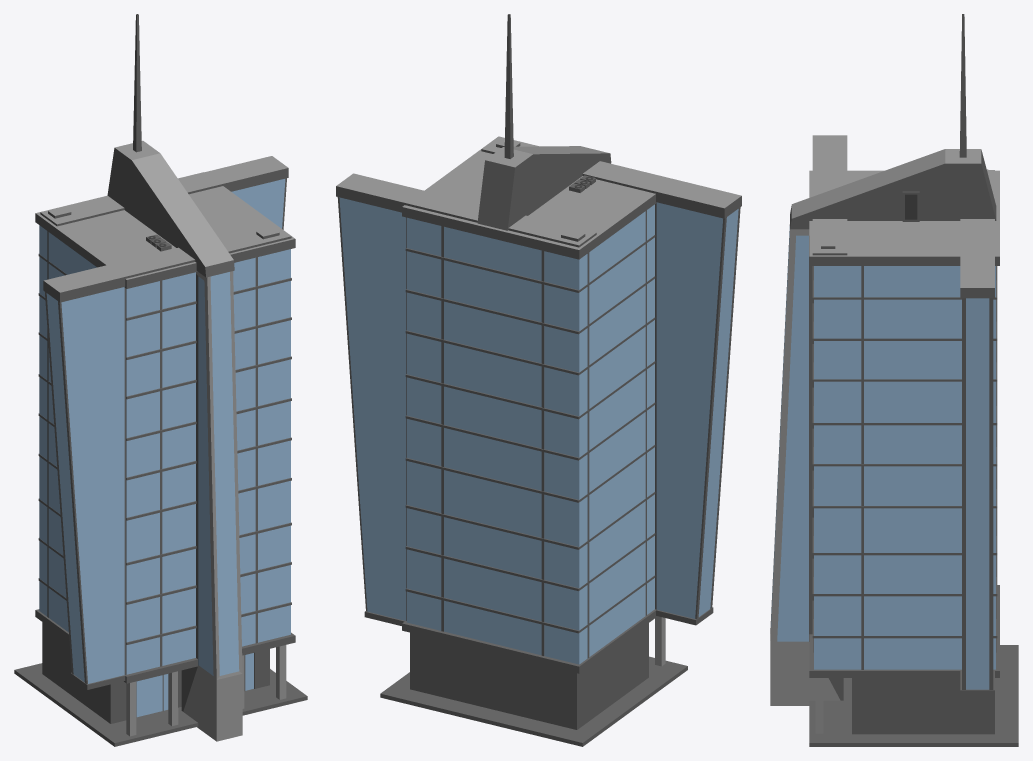
Rendered from business_center_007.fbx.
The picture shows the model from 3 angles, left to right: view 1: azimuth 30°, elevation 25°; view 2: azimuth 150°, elevation 25°; view 3: azimuth 270°, elevation 25°; orthographic projection. The views are drawn at different scales.
Visible parts, largest first — view 1: business_center_007; view 2: business_center_007; view 3: business_center_007.
Part boxes in pixels (bbox=[...]): business_center_007: bbox=[14, 14, 307, 746]; business_center_007: bbox=[336, 14, 741, 746]; business_center_007: bbox=[770, 14, 1018, 746].
Size of the model in its own units: 2242 by 4698 by 1541.
